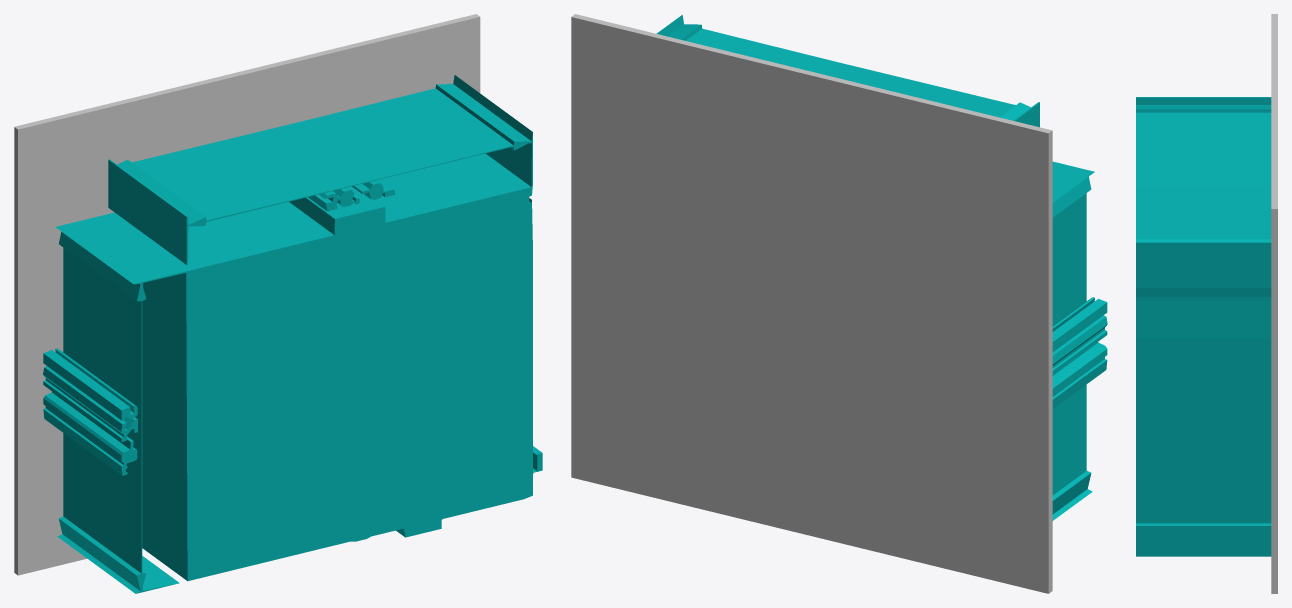
3 renders of one model, left to right at view 1: azimuth 30°, elevation 25°; view 2: azimuth 150°, elevation 25°; view 3: azimuth 270°, elevation 25°, orthographic. The views are drawn at different scales.
Parts seen in each view (by area): view 1: world; view 2: world; view 3: world.
Part boxes in pixels (x1=…): world: x1=14, y1=14, x2=542, y2=593; world: x1=571, y1=14, x2=1107, y2=593; world: x1=1136, y1=14, x2=1277, y2=593.
Size of the model in its own units: 10.23 by 9.43 by 3.15.
